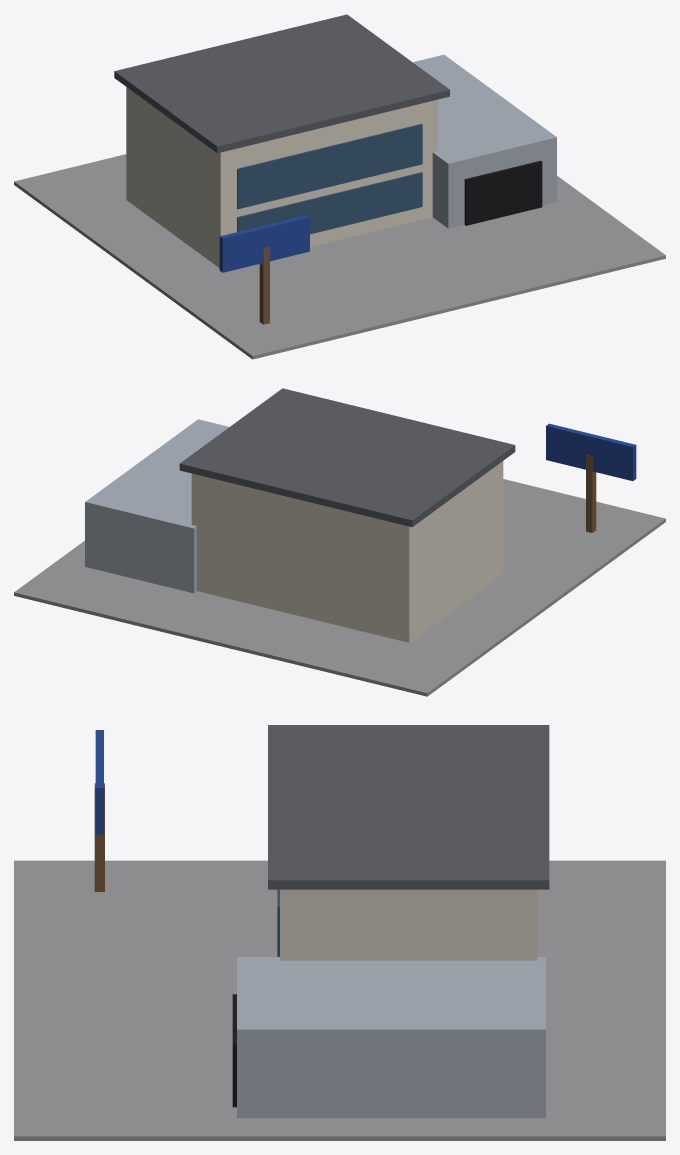
Rendered from hq_1_depot_office.glb.
3 renders of one model, top to bottom at view 1: azimuth 30°, elevation 25°; view 2: azimuth 150°, elevation 25°; view 3: azimuth 270°, elevation 25°, orthographic. The views are drawn at different scales.
Visible parts, largest first — view 1: Yard, Roof, Office, Depot, Windows, Windows2, DepotDoor, Sign, SignPost; view 2: Yard, Office, Roof, Depot, Sign, SignPost; view 3: Yard, Depot, Roof, Office, Sign, SignPost.
Boxes of the visible parts, <box> form: Yard: <box>14,154,665,359</box>; Roof: <box>114,14,449,153</box>; Office: <box>126,87,437,267</box>; Depot: <box>413,54,556,228</box>; Windows: <box>237,123,422,209</box>; Windows2: <box>237,172,422,234</box>; DepotDoor: <box>464,160,542,225</box>; Sign: <box>219,215,309,272</box>; SignPost: <box>259,246,269,324</box>; Yard: <box>14,479,665,696</box>; Office: <box>191,461,503,642</box>; Roof: <box>179,388,515,527</box>; Depot: <box>85,419,229,593</box>; Sign: <box>546,423,636,480</box>; SignPost: <box>586,455,596,532</box>; Yard: <box>14,860,665,1140</box>; Depot: <box>237,957,545,1118</box>; Roof: <box>268,725,549,889</box>; Office: <box>280,889,537,960</box>; Sign: <box>95,730,103,834</box>; SignPost: <box>94,783,104,891</box>.
Size of the model in its own units: 3.8 by 1.15 by 3.8.
